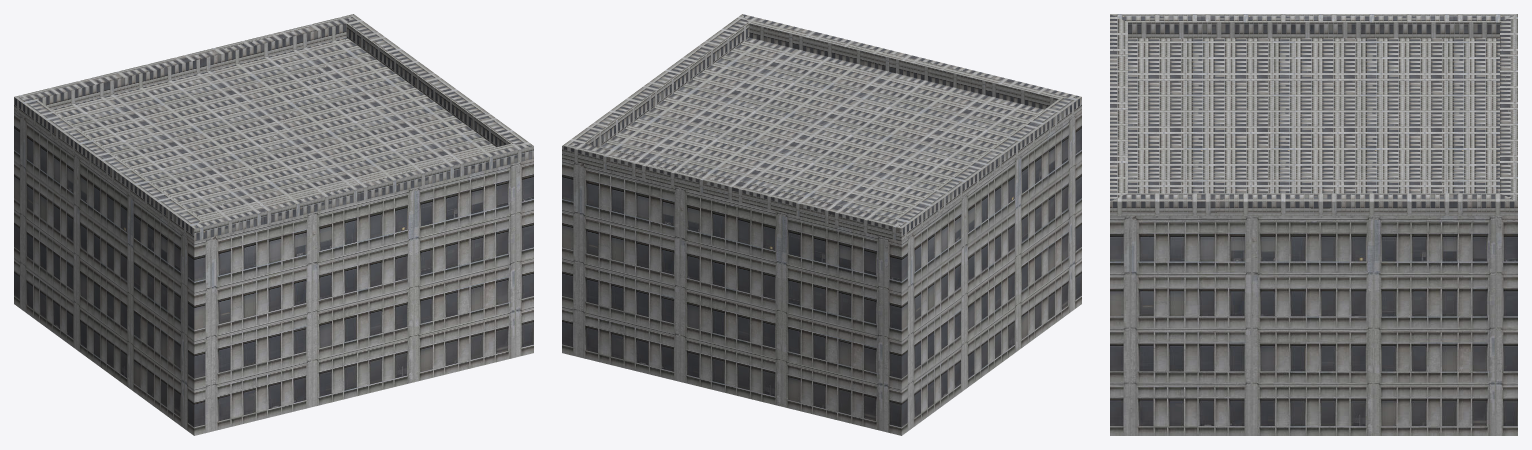
File: binad3as21d6a54--.fbx
3 renders of one model, left to right at view 1: azimuth 30°, elevation 25°; view 2: azimuth 150°, elevation 25°; view 3: azimuth 270°, elevation 25°, orthographic. The views are drawn at different scales.
Visible parts, largest first — view 1: Cube; view 2: Cube; view 3: Cube.
Boxes of the visible parts, bbox=[...] form: Cube: bbox=[14, 14, 533, 435]; Cube: bbox=[562, 14, 1081, 435]; Cube: bbox=[1110, 14, 1517, 435].
Size of the model in its own units: 365 by 213 by 336.
1 material, 1 textured.
